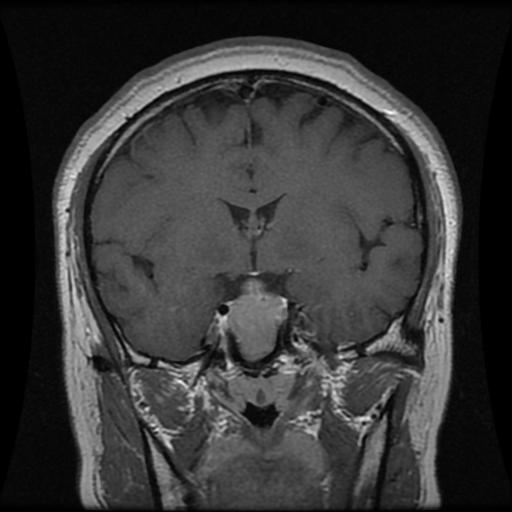Pituirity_tumour: (228, 278, 285, 359)
